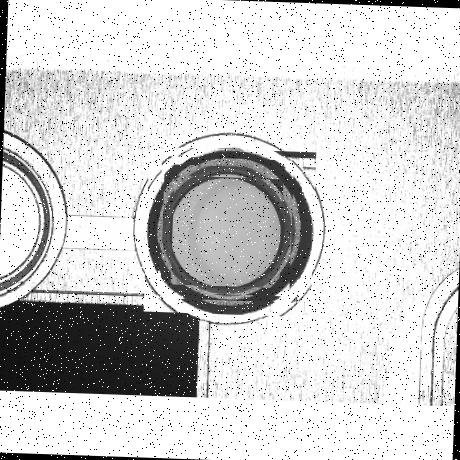Hole: (144, 145, 316, 317)
Hole2: (156, 156, 304, 302)
Hole3: (160, 164, 293, 296)
Hole4: (170, 174, 284, 288)
